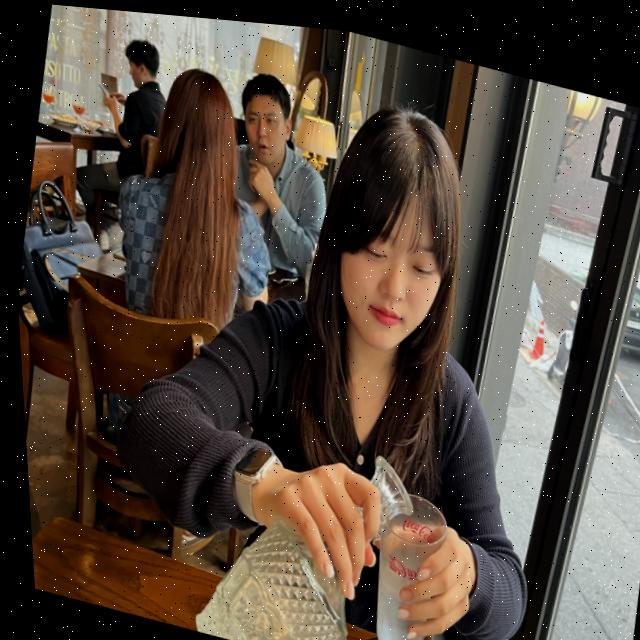eating-person: (54, 9, 612, 640)
